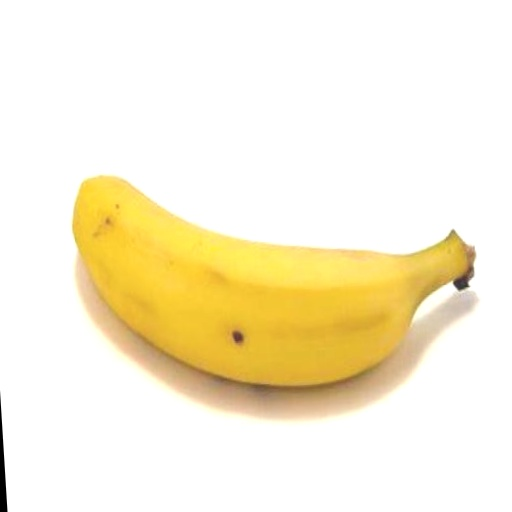fruit: (73, 176, 475, 386)
